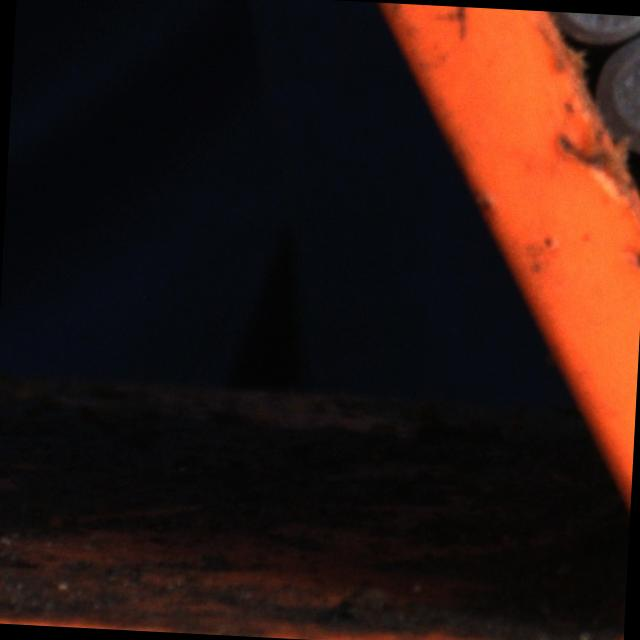tool: (594, 28, 640, 155)
